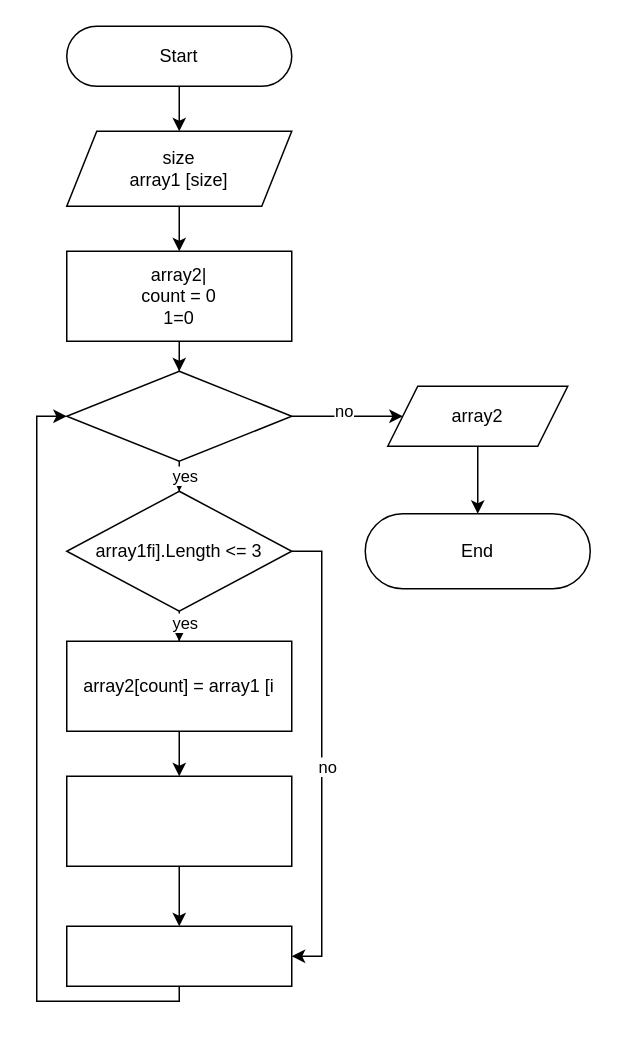
Some shapes in this 617 by 1040 pixel diagram are drawn without their labels. The shapes that lost their labels are listed below. From the top down, each one's centre as x and y in pixels, then its label:
At pixel 178 415: "1 < Size".
At pixel 178 820: "count++".
At pixel 178 955: "i++".
